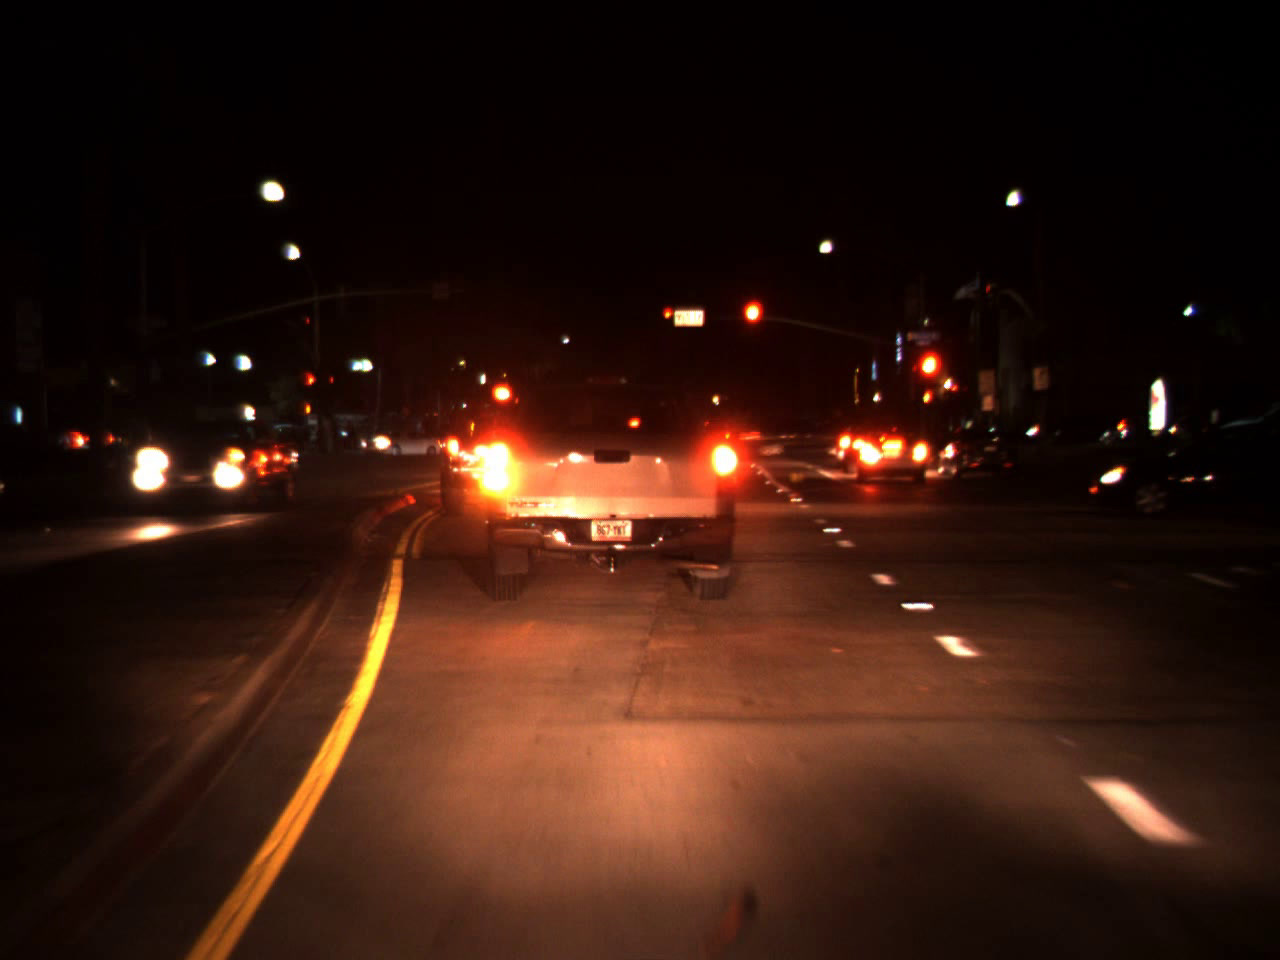stop: (914, 345, 945, 415), (739, 297, 766, 351), (662, 306, 674, 327), (306, 371, 315, 398)
